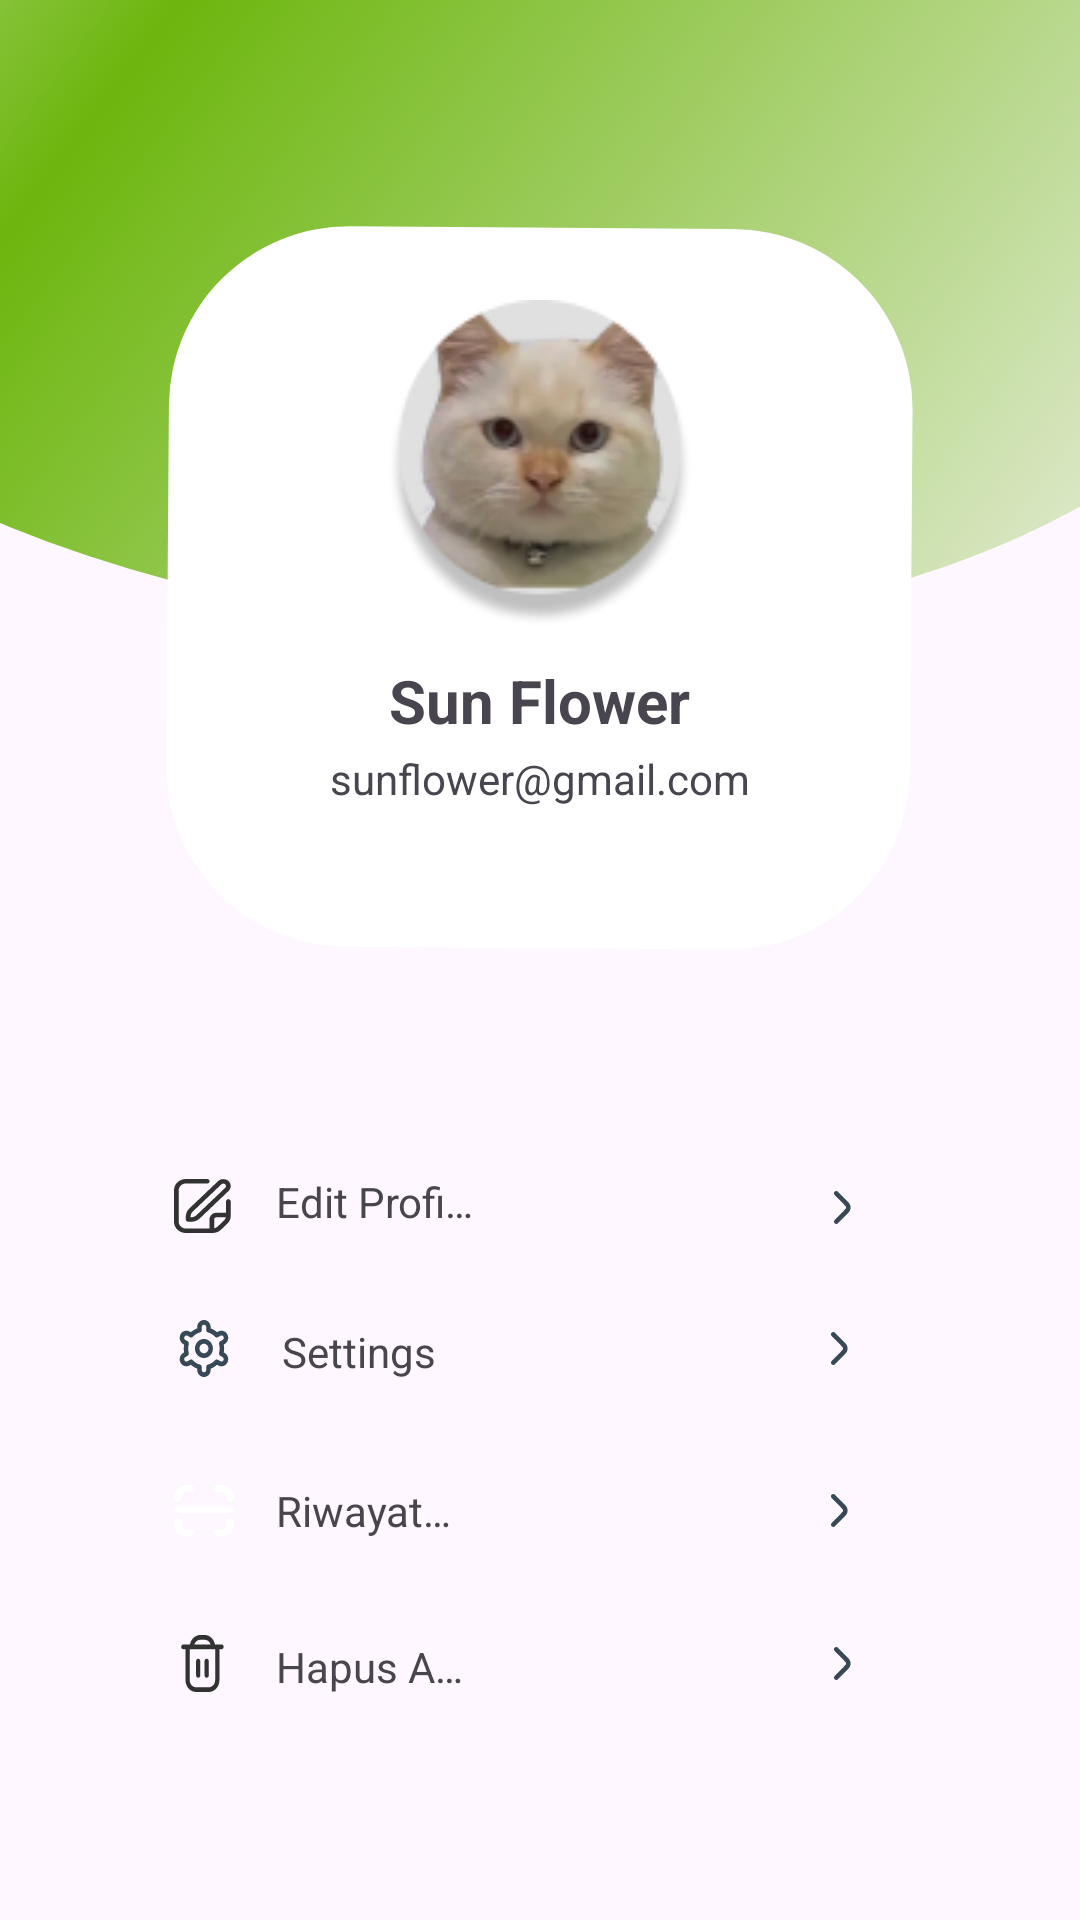

Point at icon controls on the screen. Image size 1080×1920, points as point (x, y).
ellipseprofile: point (539, 458)
trash: point (202, 1663)
